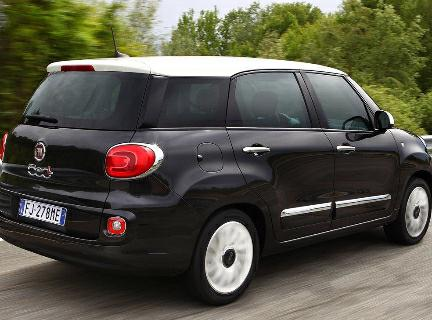菲亚特-500L: (4, 52, 432, 304)
